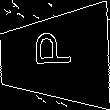P_W: (32, 38, 77, 77)
